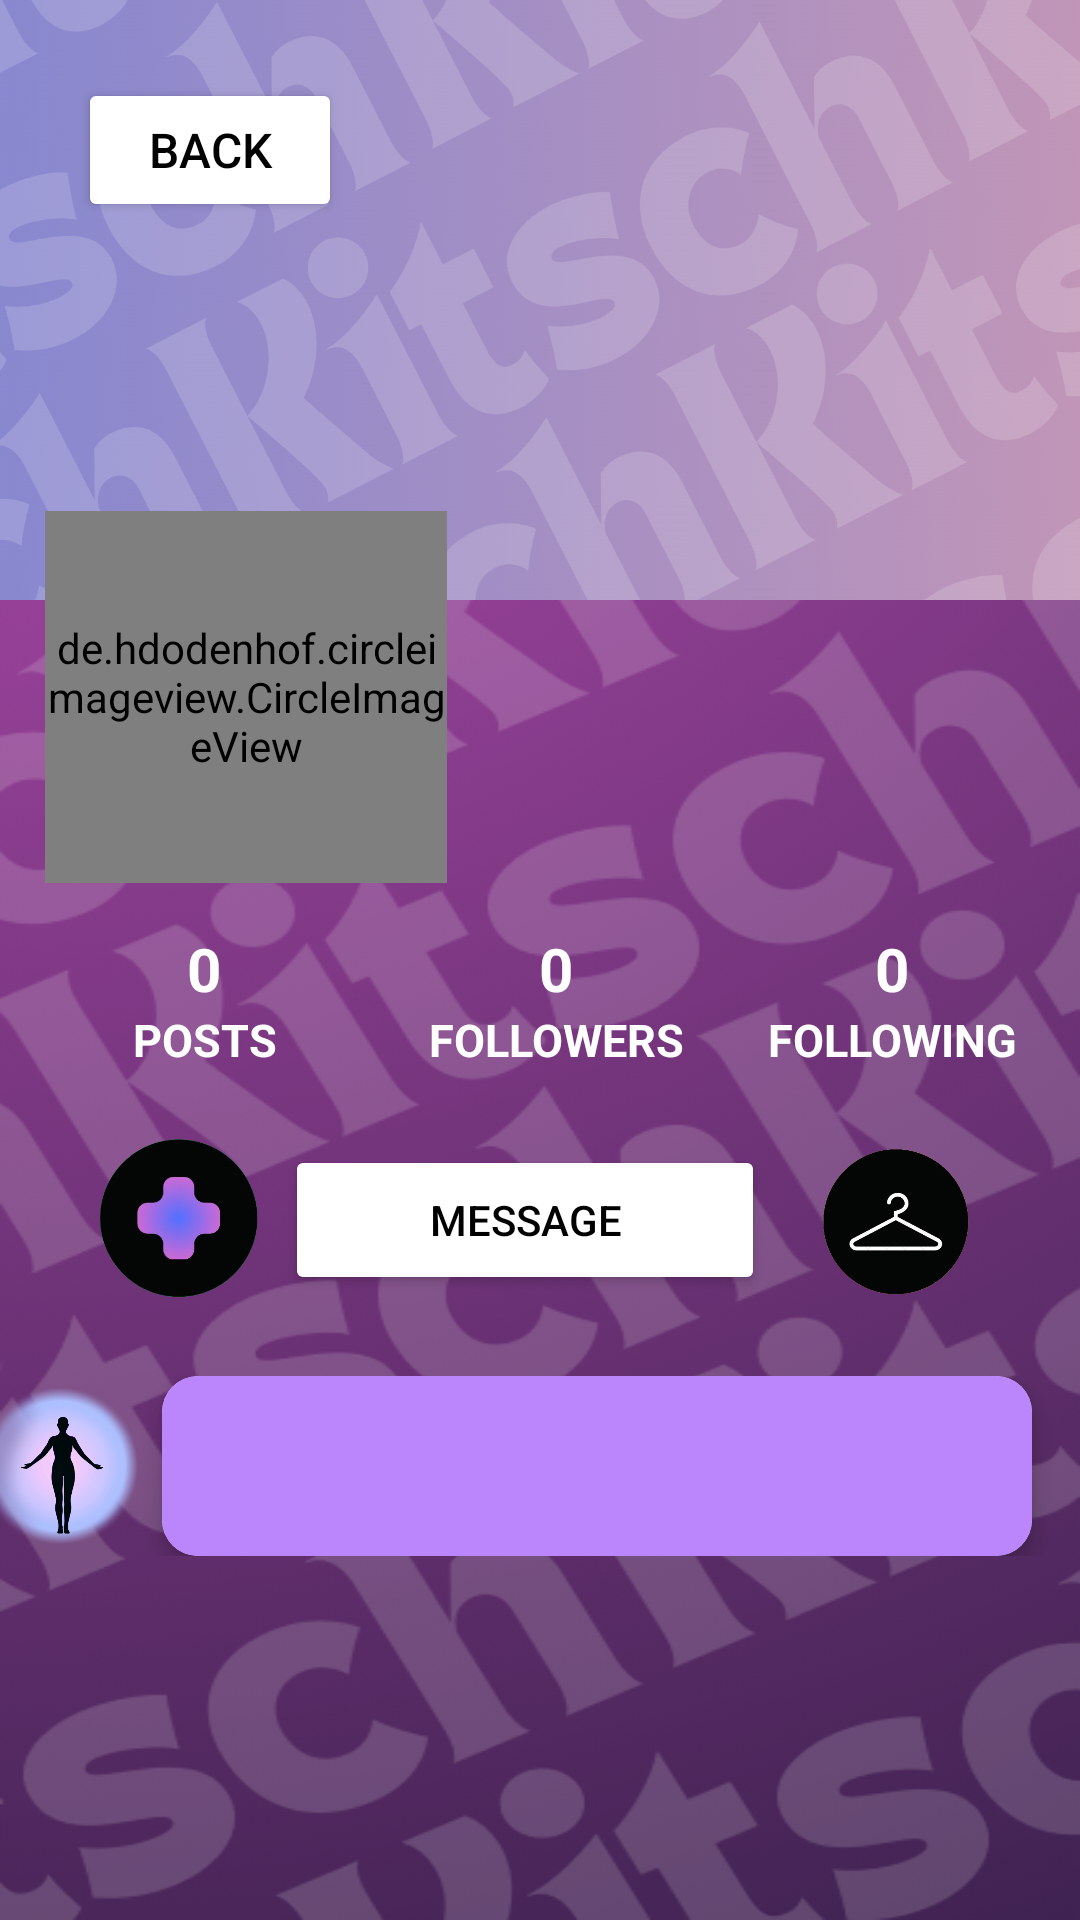

Where to tap for icons on this 1080×1920 app screen, as (x=x, y=y):
wardrobe otherpov: (x=900, y=1220)
